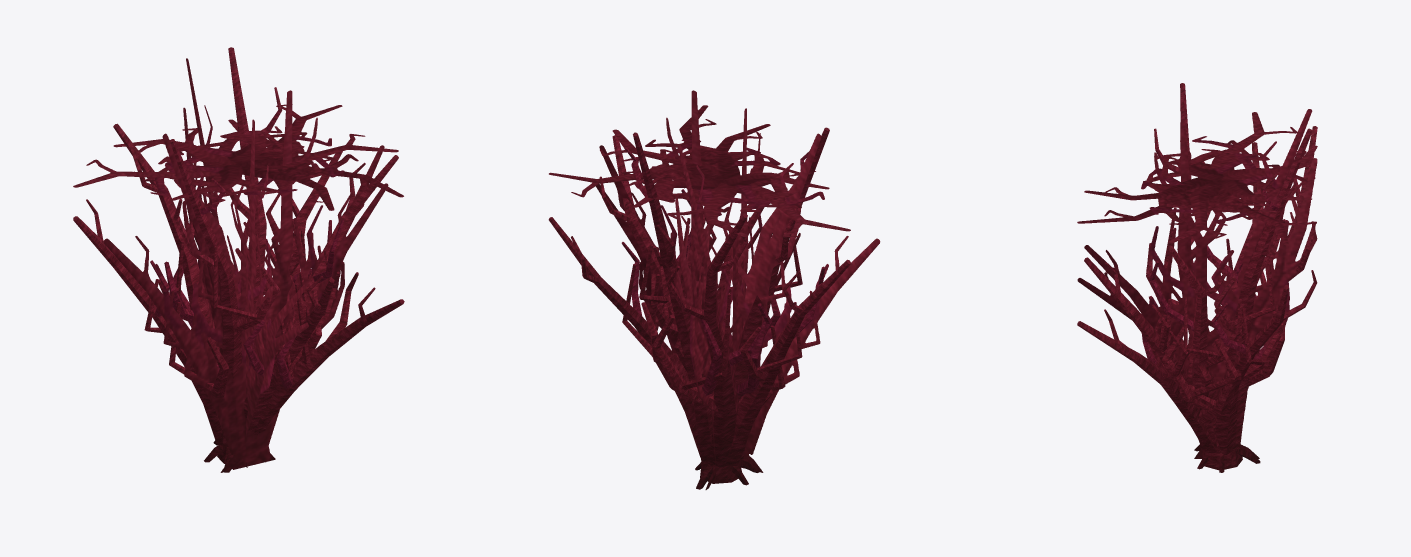
File: Alga-05-Gracilaria-Vinho.glb
3 views of the same model, side by side, from view 1: azimuth 30°, elevation 25°; view 2: azimuth 150°, elevation 25°; view 3: azimuth 270°, elevation 25° (orthographic). The views are drawn at different scales.
Visible parts, largest first — view 1: Alga-05-Gracilaria-Vinho impostor, Colonia; view 2: Colonia, Alga-05-Gracilaria-Vinho impostor; view 3: Colonia, Alga-05-Gracilaria-Vinho impostor.
Part boxes in pixels (x1=…): Alga-05-Gracilaria-Vinho impostor: x1=73, y1=58, x2=403, y2=472; Colonia: x1=73, y1=47, x2=404, y2=472; Colonia: x1=548, y1=127, x2=850, y2=489; Alga-05-Gracilaria-Vinho impostor: x1=549, y1=90, x2=880, y2=489; Colonia: x1=1077, y1=83, x2=1317, y2=472; Alga-05-Gracilaria-Vinho impostor: x1=1077, y1=109, x2=1317, y2=458.
Size of what is drawn, in the model's own units: 0.8716 by 0.8716 by 0.8716.
2 materials, 2 textured.
